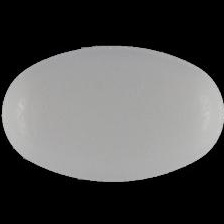55700-044: (0, 0, 224, 224)
